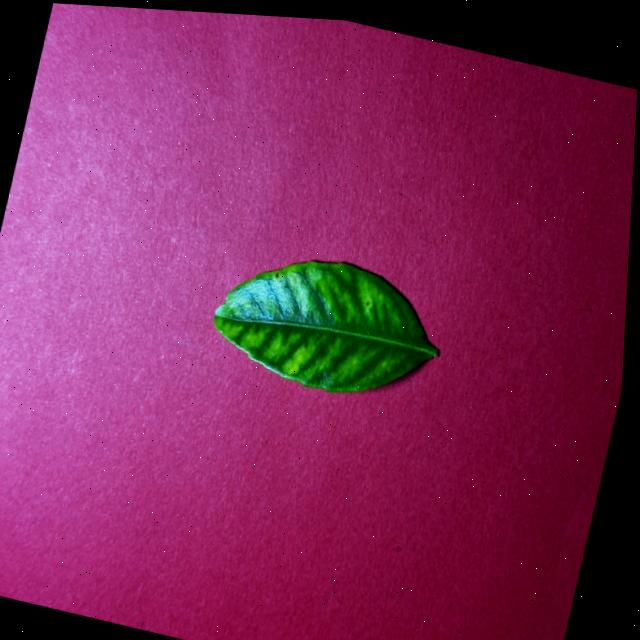greening: (213, 261, 437, 392)
